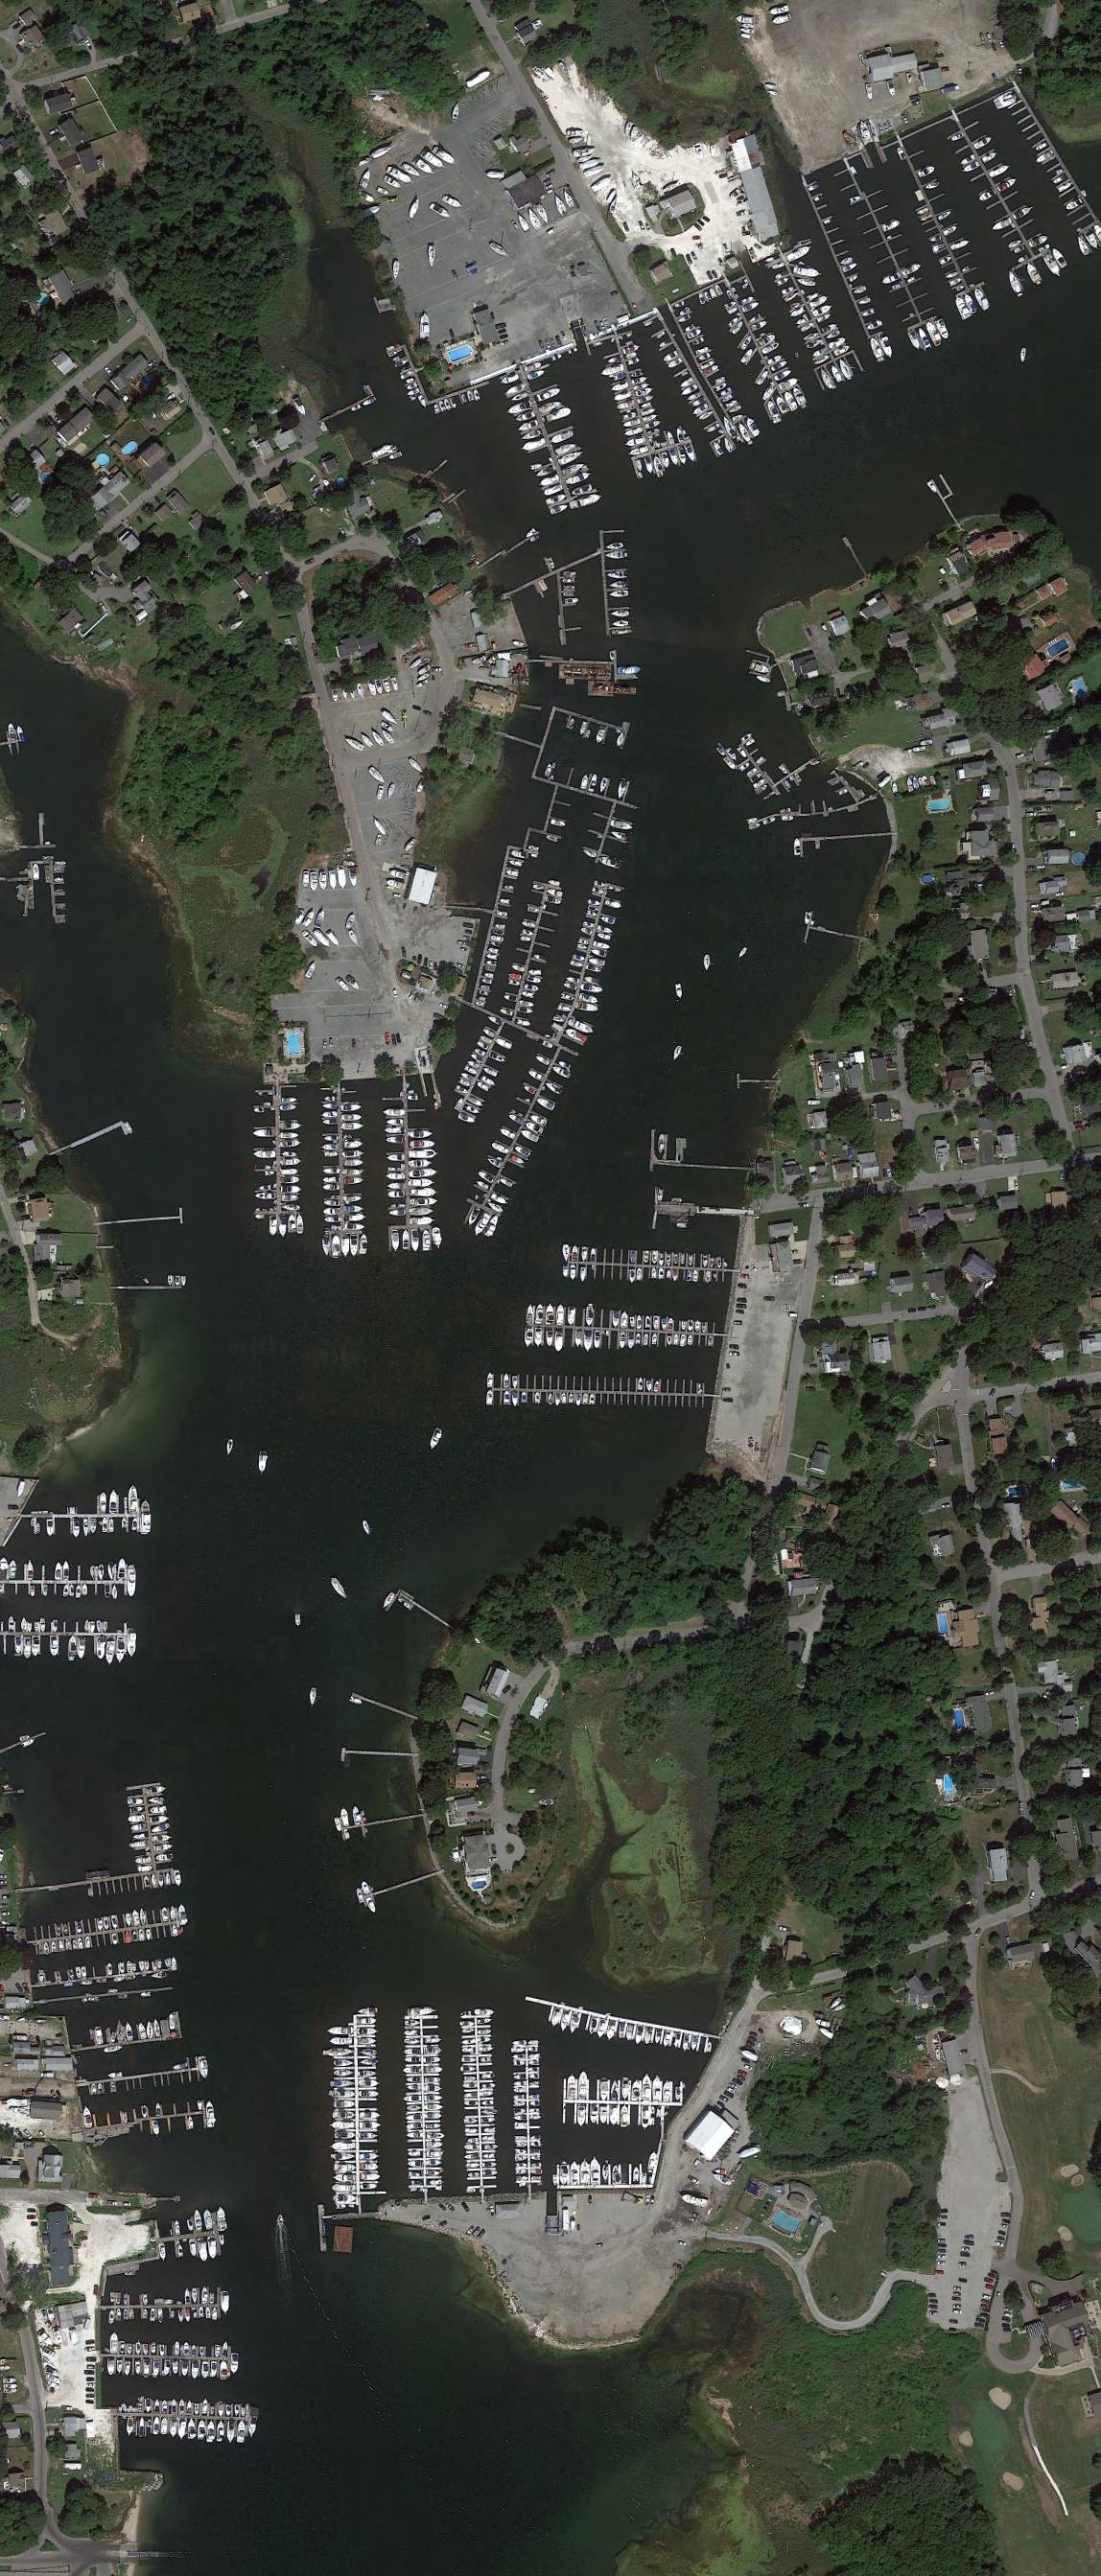harbor: (457, 1040, 578, 1240), (828, 148, 943, 332), (638, 297, 766, 462), (938, 105, 1057, 271), (493, 355, 606, 522), (884, 133, 989, 299), (705, 268, 813, 424), (764, 241, 869, 394), (996, 89, 1099, 235), (802, 169, 887, 342), (518, 1991, 720, 2062), (547, 879, 629, 1046), (524, 1299, 726, 1360), (325, 2003, 381, 2216), (498, 881, 569, 1032), (485, 1368, 716, 1414), (467, 843, 529, 1009), (26, 1902, 192, 1960), (383, 1094, 442, 1252), (598, 330, 669, 457), (440, 1014, 521, 1124), (565, 1242, 738, 1293), (320, 1079, 368, 1258), (120, 2392, 263, 2451), (401, 2006, 445, 2193), (251, 1086, 304, 1235), (30, 1955, 182, 2006), (458, 2008, 498, 2196), (564, 2073, 687, 2132), (20, 1488, 158, 1541), (748, 784, 882, 836), (18, 1863, 182, 1906), (2, 1553, 138, 1603), (2, 1612, 140, 1661), (102, 2338, 243, 2385), (537, 752, 649, 812), (77, 2052, 214, 2100), (89, 2098, 217, 2146), (357, 1851, 447, 1917), (721, 726, 790, 812), (550, 692, 643, 756), (623, 421, 707, 488), (67, 2009, 182, 2057), (651, 1125, 753, 1176), (652, 1184, 744, 1240), (43, 1114, 135, 1168), (102, 2288, 233, 2326), (125, 1779, 176, 1876), (513, 2039, 544, 2195), (575, 795, 639, 871), (385, 1585, 460, 1648), (532, 641, 644, 682), (339, 1792, 426, 1843), (156, 2208, 235, 2262), (600, 529, 633, 637), (795, 826, 896, 859), (527, 779, 580, 841), (805, 913, 873, 961), (557, 2159, 652, 2190), (927, 471, 971, 532), (552, 568, 587, 646), (348, 1689, 421, 1725), (97, 1209, 182, 1234), (340, 1740, 417, 1766), (110, 1278, 186, 1290)
ship: (549, 882, 626, 1043), (674, 302, 748, 422), (475, 848, 526, 1009), (513, 2042, 541, 2185), (629, 1252, 731, 1285), (569, 491, 605, 513), (383, 163, 414, 186), (419, 146, 447, 171), (463, 67, 493, 90), (695, 284, 725, 307), (431, 145, 457, 168), (991, 90, 1019, 112), (557, 449, 587, 468), (1006, 268, 1025, 297), (329, 1574, 350, 1600), (971, 288, 993, 314), (473, 1209, 493, 1237), (868, 337, 887, 365), (1043, 251, 1063, 279), (876, 332, 896, 360), (785, 243, 813, 263), (534, 386, 564, 404), (988, 159, 1012, 181), (532, 200, 552, 227), (588, 174, 615, 194), (564, 1025, 590, 1045), (953, 296, 973, 322), (506, 399, 534, 417), (549, 427, 577, 445), (560, 460, 588, 478), (565, 470, 593, 488), (925, 320, 943, 348), (411, 156, 435, 176), (370, 141, 394, 161), (427, 200, 452, 220), (370, 440, 394, 460), (357, 169, 375, 195), (537, 398, 564, 416), (526, 205, 544, 232), (1050, 245, 1068, 271), (570, 480, 597, 498), (546, 406, 572, 424), (1025, 261, 1043, 288), (792, 264, 823, 279), (680, 2193, 708, 2210), (312, 927, 332, 950), (744, 416, 764, 439), (807, 292, 830, 312), (901, 260, 924, 279), (427, 1426, 445, 1451), (552, 192, 570, 217), (782, 389, 800, 414), (996, 174, 1020, 192), (720, 416, 738, 440), (1081, 227, 1099, 251), (738, 2144, 762, 2162), (521, 437, 547, 453), (766, 399, 782, 425), (368, 764, 388, 785), (406, 756, 426, 777), (490, 240, 511, 260), (465, 1206, 483, 1229), (343, 736, 366, 754), (504, 381, 527, 399), (777, 375, 800, 393), (790, 386, 808, 409), (1029, 232, 1052, 250), (1012, 204, 1035, 222), (971, 133, 994, 151), (572, 1019, 595, 1037), (812, 301, 835, 319), (291, 394, 309, 417), (598, 363, 626, 378), (544, 491, 569, 508), (485, 1214, 501, 1239), (818, 366, 835, 391), (838, 356, 855, 381), (963, 292, 979, 317), (598, 854, 623, 871), (710, 2172, 735, 2188), (380, 706, 399, 726), (419, 312, 432, 342), (79, 2104, 94, 2131), (917, 325, 932, 352), (577, 2072, 590, 2101), (519, 1127, 541, 1145), (536, 1096, 557, 1114), (301, 928, 319, 950), (1035, 148, 1057, 166), (537, 473, 560, 490), (518, 417, 541, 434), (498, 371, 521, 388), (514, 210, 531, 233), (358, 204, 381, 220), (440, 194, 463, 210), (774, 394, 790, 417), (915, 163, 938, 179), (856, 118, 873, 141), (555, 440, 578, 457), (583, 163, 606, 179), (1075, 235, 1091, 258), (935, 317, 951, 340), (107, 1488, 120, 1516), (215, 2205, 228, 2233), (559, 2009, 574, 2034), (248, 2407, 260, 2438), (380, 1590, 398, 1610), (401, 161, 421, 179), (524, 1120, 546, 1137), (371, 817, 388, 838), (370, 728, 386, 749), (544, 1081, 565, 1097), (552, 1065, 574, 1081), (381, 174, 403, 191), (516, 409, 537, 425), (828, 363, 845, 384), (881, 217, 902, 233), (739, 2047, 761, 2063), (409, 1148, 439, 1160), (542, 483, 565, 498), (141, 1500, 151, 1534), (521, 429, 544, 444), (767, 3, 790, 18), (771, 12, 794, 26), (580, 156, 603, 171), (907, 329, 922, 352), (595, 2017, 610, 2040), (641, 2073, 652, 2103), (817, 2024, 835, 2042), (490, 1191, 509, 1207), (529, 1112, 549, 1129), (498, 1125, 518, 1142), (513, 1143, 532, 1160), (486, 1201, 506, 1217), (325, 928, 342, 948), (197, 2055, 210, 2080), (756, 332, 776, 348), (978, 187, 997, 204), (623, 435, 647, 449), (570, 145, 595, 158), (661, 348, 680, 365), (827, 335, 846, 352), (569, 2011, 582, 2036), (409, 1216, 437, 1227), (409, 1168, 437, 1180), (327, 2024, 355, 2036), (105, 1638, 117, 1666), (207, 2234, 219, 2262), (652, 2075, 664, 2103), (314, 908, 329, 930), (386, 877, 408, 892), (536, 465, 557, 480), (509, 389, 531, 404), (526, 368, 547, 383), (759, 340, 781, 355), (991, 217, 1012, 232), (738, 422, 753, 444), (610, 379, 631, 394), (881, 271, 902, 286), (950, 237, 971, 251), (128, 1483, 138, 1515), (408, 1129, 434, 1140), (449, 102, 462, 125), (408, 197, 421, 220), (197, 2236, 209, 2262), (639, 2104, 651, 2131), (605, 2019, 618, 2042), (491, 1140, 509, 1157), (485, 1155, 503, 1171), (360, 731, 376, 749), (380, 728, 396, 746), (335, 976, 352, 994), (1065, 197, 1083, 214), (409, 1188, 439, 1198), (495, 1037, 514, 1051), (532, 1053, 552, 1068), (526, 1068, 546, 1083), (549, 503, 569, 517), (302, 908, 317, 928), (115, 1636, 125, 1666), (769, 358, 789, 373), (774, 368, 794, 383), (761, 383, 776, 402), (961, 161, 981, 176), (958, 153, 978, 168), (690, 402, 710, 417), (680, 383, 700, 398), (621, 342, 641, 356), (616, 398, 636, 412), (832, 343, 851, 358), (593, 726, 608, 746), (670, 1043, 685, 1063), (334, 2162, 358, 2173), (204, 2208, 215, 2233), (652, 455, 664, 480), (616, 777, 628, 802), (388, 867, 409, 881), (684, 442, 697, 463), (667, 447, 680, 468), (613, 391, 634, 404), (633, 386, 654, 399), (797, 276, 818, 289), (411, 1196, 439, 1206), (337, 862, 347, 890), (409, 2008, 437, 2017), (205, 2100, 215, 2127), (128, 1564, 136, 1597), (478, 1170, 496, 1184), (345, 973, 360, 991), (467, 1094, 485, 1109), (766, 353, 784, 368), (805, 337, 823, 352), (822, 320, 840, 335), (789, 306, 807, 320), (330, 1235, 342, 1258), (334, 2193, 357, 2205), (215, 2420, 227, 2443), (186, 2418, 197, 2441), (123, 2019, 135, 2042), (177, 1902, 189, 1925), (618, 664, 641, 675), (611, 820, 634, 831), (559, 2162, 570, 2185), (409, 1207, 435, 1217), (432, 1226, 442, 1252), (355, 680, 368, 700), (347, 928, 360, 948), (330, 2121, 357, 2131), (330, 2080, 357, 2090), (332, 2183, 358, 2193), (457, 1112, 477, 1125), (294, 907, 307, 927), (258, 1449, 268, 1475), (523, 361, 542, 375), (749, 319, 769, 332), (741, 301, 761, 314), (979, 151, 999, 164), (643, 455, 656, 475), (736, 13, 756, 26), (629, 375, 649, 388), (590, 2159, 600, 2185), (587, 2016, 600, 2036), (567, 2075, 577, 2101), (324, 2049, 355, 2057), (128, 1628, 136, 1659), (7, 721, 18, 743), (125, 2417, 136, 2438), (102, 2044, 123, 2055), (623, 427, 644, 439), (629, 445, 651, 457), (675, 444, 687, 465), (578, 1002, 600, 1014), (578, 994, 600, 1005), (588, 772, 600, 793), (656, 1132, 667, 1153), (550, 2006, 562, 2027), (403, 836, 417, 853), (414, 777, 429, 793), (358, 2121, 383, 2131), (332, 2100, 357, 2109), (526, 1301, 536, 1326), (355, 2006, 380, 2016), (251, 1150, 276, 1160), (237, 2420, 246, 2445), (205, 2420, 215, 2445), (427, 243, 437, 268), (77, 1636, 87, 1661), (67, 1636, 77, 1661), (49, 1635, 59, 1659), (110, 2331, 120, 2356), (222, 2290, 232, 2315), (192, 2208, 202, 2233), (756, 370, 771, 386), (739, 348, 754, 365), (679, 376, 695, 391), (667, 356, 684, 371), (580, 984, 605, 994), (725, 746, 739, 762), (800, 320, 817, 335), (828, 1994, 843, 2011), (580, 2160, 590, 2185), (508, 1153, 526, 1166), (480, 1074, 498, 1088), (365, 1896, 378, 1914), (304, 961, 317, 979), (638, 393, 656, 406), (800, 330, 818, 343), (812, 353, 830, 366), (817, 312, 835, 325), (825, 329, 843, 342), (841, 261, 859, 274), (409, 1180, 437, 1188), (386, 1171, 406, 1183), (342, 1235, 352, 1258), (342, 1122, 365, 1132), (348, 864, 358, 887), (329, 867, 339, 890), (334, 2131, 357, 2141), (334, 2067, 353, 2078), (330, 2036, 353, 2045), (335, 2173, 358, 2183), (567, 1304, 577, 1327), (352, 1805, 363, 1825), (253, 1129, 276, 1138), (279, 1122, 302, 1132), (117, 1557, 127, 1580), (268, 1214, 278, 1237), (151, 2417, 163, 2436), (485, 169, 504, 181), (133, 1855, 153, 1866), (151, 1843, 174, 1853), (151, 1822, 171, 1833), (31, 1635, 41, 1658), (23, 1636, 33, 1659), (603, 899, 623, 910), (585, 1304, 595, 1327), (583, 1329, 593, 1352), (610, 830, 629, 841), (620, 2104, 629, 2127), (570, 2162, 580, 2185), (577, 2103, 587, 2126), (721, 756, 736, 770), (508, 1114, 524, 1127), (498, 1176, 514, 1189), (475, 1178, 491, 1191), (330, 2154, 357, 2162), (330, 2142, 357, 2150), (330, 2090, 357, 2098), (490, 1051, 506, 1065), (475, 1081, 491, 1094), (232, 2349, 240, 2376), (741, 335, 754, 352), (731, 320, 744, 337), (712, 440, 725, 457), (721, 437, 735, 453), (1052, 172, 1068, 186), (943, 225, 960, 238), (937, 209, 953, 222), (896, 146, 909, 163), (950, 131, 966, 145), (605, 552, 631, 560), (698, 409, 715, 422), (687, 391, 703, 404), (932, 241, 948, 255), (948, 276, 965, 289), (582, 846, 598, 859), (362, 394, 378, 407), (322, 1207, 343, 1217), (386, 1181, 408, 1191), (345, 1212, 366, 1222), (422, 1231, 432, 1252), (383, 1107, 404, 1117), (309, 1686, 319, 1707), (279, 1138, 301, 1148), (256, 1191, 278, 1201), (72, 1518, 82, 1539), (225, 1436, 235, 1457), (296, 1214, 306, 1235), (177, 2418, 187, 2440), (169, 2417, 179, 2438), (136, 2417, 146, 2438), (158, 2241, 168, 2262), (128, 1840, 150, 1850), (151, 1833, 173, 1843), (150, 1814, 171, 1824), (13, 1635, 23, 1656), (608, 570, 629, 580), (608, 590, 629, 600), (611, 1308, 621, 1329), (634, 2024, 644, 2045), (386, 782, 398, 800), (368, 678, 380, 697), (381, 675, 393, 693), (547, 887, 565, 899), (345, 913, 357, 931), (463, 1104, 481, 1115), (15, 724, 26, 743), (156, 1851, 174, 1863), (130, 1822, 148, 1833), (136, 2022, 148, 2040), (171, 2060, 189, 2072), (644, 419, 662, 430), (623, 417, 641, 429), (641, 412, 659, 424), (886, 79, 897, 97), (639, 406, 657, 417), (588, 956, 606, 968), (583, 974, 601, 986), (597, 925, 615, 936), (598, 775, 610, 793), (409, 1160, 434, 1168), (409, 1140, 434, 1148), (350, 1234, 358, 1258), (358, 2111, 383, 2119), (332, 2111, 357, 2119), (546, 1301, 554, 1326), (555, 1327, 564, 1352), (97, 1636, 105, 1661), (621, 2077, 629, 2101), (380, 720, 394, 733), (549, 818, 569, 828), (509, 849, 529, 859), (523, 1084, 537, 1097), (358, 2068, 378, 2078), (360, 2057, 380, 2067), (422, 2045, 442, 2055), (488, 1014, 503, 1027), (480, 1033, 495, 1046), (355, 1886, 365, 1906), (340, 1809, 350, 1828), (283, 1184, 302, 1194), (309, 871, 319, 890), (141, 2359, 151, 2379), (146, 1796, 166, 1805), (148, 1805, 168, 1815), (146, 1784, 166, 1794), (125, 1797, 145, 1807), (153, 2118, 163, 2137), (94, 2026, 104, 2045), (145, 2021, 154, 2040), (1057, 181, 1071, 194), (1034, 140, 1048, 153), (592, 940, 611, 950), (739, 731, 754, 744), (925, 480, 938, 495), (938, 255, 953, 268), (611, 2165, 621, 2185), (662, 2029, 672, 2049), (682, 2032, 692, 2052), (411, 1229, 419, 1252), (342, 1150, 365, 1158), (358, 2152, 381, 2160), (360, 2173, 383, 2182), (357, 2027, 380, 2036), (557, 1303, 565, 1326), (536, 1303, 544, 1326), (468, 1053, 485, 1065), (483, 1066, 500, 1078), (360, 1879, 371, 1896), (279, 1158, 302, 1166), (227, 2420, 235, 2443), (925, 179, 942, 191), (592, 948, 608, 959), (564, 981, 580, 992), (509, 963, 526, 974), (812, 347, 828, 358), (840, 255, 856, 266), (388, 450, 404, 462), (498, 1007, 514, 1019), (600, 2078, 608, 2101), (324, 1175, 342, 1184), (376, 784, 386, 802), (320, 1101, 339, 1111), (406, 2113, 424, 2123), (181, 2359, 191, 2377), (128, 1814, 146, 1824), (128, 1805, 146, 1815), (666, 429, 675, 447), (864, 82, 874, 100), (605, 540, 623, 550), (621, 411, 639, 421), (792, 838, 802, 856), (173, 2218, 182, 2236), (186, 2114, 196, 2132), (616, 731, 626, 749), (813, 2017, 832, 2027), (514, 1019, 532, 1028), (624, 2024, 634, 2042), (342, 1196, 363, 1204), (383, 1125, 404, 1134), (322, 1235, 330, 1257), (403, 1229, 411, 1250), (391, 1231, 399, 1252), (360, 1234, 368, 1255), (358, 2090, 380, 2098), (358, 2132, 380, 2141), (422, 2113, 444, 2121), (524, 1327, 532, 1349), (99, 1492, 107, 1513), (279, 1216, 288, 1237), (197, 2420, 205, 2441), (191, 2359, 199, 2381), (220, 2361, 228, 2382), (26, 1559, 35, 1580), (153, 2017, 161, 2039), (107, 2356, 115, 2377), (608, 580, 629, 588), (610, 2104, 618, 2126), (590, 2103, 598, 2124), (664, 2081, 672, 2103), (633, 2080, 641, 2101), (409, 657, 422, 670), (416, 672, 431, 683), (417, 664, 432, 675), (559, 1060, 574, 1071), (481, 1028, 496, 1040), (475, 1040, 490, 1051), (463, 1065, 478, 1076), (460, 1071, 475, 1083), (457, 1076, 472, 1088), (721, 299, 736, 310), (707, 422, 721, 434), (1007, 238, 1022, 250), (692, 398, 707, 409), (597, 931, 611, 943), (744, 767, 759, 779), (861, 307, 876, 319), (915, 205, 930, 217), (919, 214, 933, 225), (853, 284, 868, 296), (386, 1191, 406, 1199), (386, 1153, 406, 1161), (343, 1140, 363, 1148), (342, 1114, 362, 1122), (342, 1104, 362, 1112), (546, 897, 562, 907), (360, 2162, 380, 2170), (334, 2059, 353, 2067), (358, 2047, 378, 2055), (358, 2037, 378, 2045), (426, 2131, 445, 2139), (406, 2131, 426, 2139), (406, 2103, 422, 2113), (424, 2093, 444, 2101), (424, 2067, 444, 2075), (403, 2067, 422, 2075), (404, 2047, 421, 2057), (534, 1327, 542, 1347), (362, 1518, 371, 1534), (281, 1176, 301, 1184), (283, 1203, 302, 1211), (62, 1561, 71, 1580), (54, 1562, 62, 1582), (393, 260, 401, 279), (202, 2361, 210, 2381), (189, 2238, 197, 2257), (10, 1559, 18, 1579), (136, 1863, 153, 1873), (107, 2070, 123, 2080), (174, 1870, 182, 1889), (426, 2150, 445, 2159), (662, 450, 670, 470), (587, 964, 603, 974), (532, 953, 549, 963), (600, 915, 616, 925), (578, 720, 588, 736), (169, 2400, 179, 2417), (123, 2361, 133, 2377), (133, 1909, 141, 1929), (618, 1329, 626, 1349), (544, 762, 554, 779), (675, 982, 685, 999), (601, 2162, 610, 2182), (526, 974, 542, 984), (524, 982, 541, 992), (503, 994, 519, 1004), (600, 2104, 608, 2124), (345, 1224, 368, 1231), (342, 1168, 365, 1175), (417, 657, 431, 669), (320, 869, 327, 892), (358, 2080, 381, 2086), (473, 1046, 486, 1058), (777, 764, 789, 777), (726, 315, 738, 329), (726, 306, 739, 317), (738, 761, 749, 774), (749, 772, 762, 784), (753, 779, 766, 790), (715, 743, 726, 756), (953, 284, 966, 296), (350, 402, 363, 414), (324, 1216, 342, 1224), (386, 1117, 404, 1125), (324, 1166, 342, 1175), (375, 678, 383, 697), (391, 675, 399, 693), (322, 1143, 340, 1152), (322, 1119, 340, 1127), (426, 2141, 444, 2149), (404, 2095, 422, 2103), (424, 2037, 442, 2045), (260, 1183, 278, 1191), (281, 1168, 299, 1176), (279, 1104, 297, 1112), (283, 1194, 301, 1203), (302, 869, 311, 887), (33, 864, 41, 882), (131, 1832, 150, 1840), (611, 609, 629, 618), (475, 2017, 493, 2026), (463, 2152, 481, 2160), (161, 1906, 169, 1924), (104, 1914, 112, 1932), (621, 1311, 629, 1329), (593, 1331, 601, 1349), (582, 772, 590, 790), (703, 953, 712, 971), (562, 1244, 570, 1262), (654, 2027, 662, 2045), (690, 2034, 698, 2052), (738, 945, 748, 959), (467, 1060, 481, 1070), (454, 1097, 463, 1112), (762, 817, 777, 826), (858, 296, 873, 306), (417, 394, 427, 409), (483, 2160, 498, 2170), (570, 1247, 580, 1262), (521, 989, 536, 999), (385, 1137, 406, 1143), (343, 1160, 365, 1166), (422, 2103, 444, 2109), (422, 2085, 444, 2091), (473, 2009, 495, 2016), (324, 1199, 340, 1207), (389, 1209, 406, 1217), (322, 1111, 339, 1119), (404, 2019, 421, 2027), (426, 2123, 442, 2131), (406, 2123, 422, 2131), (406, 2077, 422, 2085), (486, 1390, 495, 1406), (486, 1372, 495, 1388), (90, 1518, 99, 1534), (143, 1875, 151, 1891), (168, 2014, 176, 2031), (675, 427, 684, 444), (613, 619, 629, 628), (145, 2397, 153, 2413), (182, 2341, 191, 2357), (460, 2047, 477, 2055), (480, 2072, 496, 2080), (462, 2081, 478, 2090), (480, 2081, 496, 2090), (480, 2116, 496, 2124), (151, 1971, 168, 1980), (125, 1912, 133, 1929), (652, 1314, 661, 1331), (633, 2167, 641, 2183), (508, 973, 524, 981), (616, 2022, 624, 2039), (345, 1206, 365, 1212), (345, 1178, 365, 1184), (513, 639, 526, 649), (360, 2183, 380, 2190), (424, 2077, 444, 2083), (422, 2057, 442, 2063), (358, 2017, 378, 2024), (547, 1327, 554, 1347), (108, 1561, 115, 1580), (289, 1214, 296, 1234), (582, 927, 595, 936), (868, 320, 881, 330), (930, 235, 943, 245), (43, 1942, 53, 1955), (634, 1332, 644, 1345), (611, 2081, 618, 2101), (509, 859, 524, 867), (547, 879, 562, 887), (404, 2029, 419, 2037), (131, 1518, 140, 1533), (173, 2359, 181, 2374), (408, 2150, 422, 2159), (565, 596, 580, 605), (560, 994, 575, 1002), (557, 1005, 572, 1014), (521, 920, 536, 928), (521, 928, 536, 936), (587, 899, 601, 907), (833, 2004, 848, 2012), (945, 271, 960, 279), (465, 2127, 480, 2136), (408, 2170, 422, 2178), (176, 2244, 184, 2259), (154, 2101, 163, 2116), (171, 1957, 179, 1971), (667, 1318, 675, 1332), (636, 1316, 644, 1331), (687, 1318, 695, 1332), (546, 835, 560, 843), (324, 1184, 342, 1191), (404, 2057, 422, 2063), (281, 1132, 299, 1138), (90, 1564, 97, 1582), (48, 1518, 54, 1536), (161, 2417, 168, 2435), (154, 2359, 161, 2377), (202, 2399, 209, 2417), (179, 2397, 186, 2415), (117, 2356, 123, 2374), (210, 2361, 217, 2379), (217, 2400, 223, 2418), (462, 2101, 480, 2108), (202, 2287, 209, 2305), (426, 2170, 444, 2177), (628, 1331, 634, 1349), (575, 1329, 582, 1347), (322, 1150, 339, 1157), (404, 2039, 421, 2045), (455, 1086, 468, 1094), (335, 1815, 342, 1832), (534, 1392, 542, 1405), (513, 1373, 519, 1390), (283, 1152, 299, 1158), (102, 1518, 108, 1534), (99, 1564, 105, 1580), (112, 1584, 118, 1600), (151, 1873, 158, 1889), (158, 1873, 164, 1889), (426, 2160, 442, 2167), (408, 2160, 424, 2167), (552, 1017, 565, 1025), (527, 907, 541, 915), (583, 920, 597, 928), (651, 1249, 657, 1265), (636, 1268, 644, 1281), (1020, 347, 1027, 363), (194, 2400, 200, 2417), (186, 2400, 192, 2417), (135, 2359, 141, 2376), (135, 2343, 143, 2356), (478, 2037, 491, 2045), (478, 2047, 495, 2054), (460, 2057, 477, 2063), (481, 2109, 498, 2116), (462, 2118, 478, 2124), (463, 2144, 480, 2150), (483, 2152, 496, 2160), (467, 2162, 480, 2170), (481, 2170, 498, 2177), (140, 1909, 146, 1925), (118, 1960, 125, 1976), (97, 1916, 104, 1932), (112, 1914, 118, 1930), (679, 1334, 687, 1347), (643, 1334, 651, 1347), (638, 1375, 644, 1392), (582, 1247, 588, 1263), (580, 1265, 587, 1281), (570, 1263, 577, 1280), (508, 979, 521, 987), (519, 1000, 536, 1007), (518, 1007, 534, 1014), (644, 2027, 651, 2044), (324, 1135, 339, 1142), (408, 2085, 422, 2091), (503, 1392, 509, 1406), (503, 1373, 509, 1388), (84, 1518, 89, 1538), (108, 1518, 115, 1533), (164, 1873, 171, 1888), (572, 954, 587, 961), (565, 976, 580, 982), (657, 1186, 664, 1201), (716, 1255, 723, 1270), (702, 1253, 708, 1268), (680, 1252, 687, 1267), (659, 1252, 666, 1267), (629, 1250, 636, 1265), (629, 1268, 636, 1283), (804, 910, 810, 925), (161, 2400, 168, 2415), (154, 2400, 161, 2415), (186, 2308, 192, 2323), (174, 2341, 181, 2356), (118, 2339, 125, 2354), (108, 2310, 115, 2325), (158, 2308, 164, 2323), (225, 2403, 232, 2418), (460, 2021, 475, 2027), (462, 2039, 477, 2045), (462, 2067, 477, 2073), (480, 2091, 495, 2098), (463, 2091, 478, 2098), (179, 2308, 186, 2323), (77, 1937, 84, 1952), (483, 2144, 498, 2150), (184, 2290, 191, 2305), (187, 2218, 194, 2233), (122, 2109, 128, 2124), (141, 2103, 148, 2118), (107, 1962, 113, 1976), (77, 1921, 84, 1935), (661, 1318, 667, 1332), (646, 1378, 652, 1393), (575, 1392, 582, 1406), (417, 680, 429, 688), (560, 1393, 569, 1405), (587, 905, 598, 913), (84, 1937, 92, 1948), (64, 1940, 72, 1952), (468, 2170, 480, 2178), (687, 1336, 695, 1347), (513, 1390, 518, 1408), (164, 2359, 169, 2377), (223, 2341, 228, 2359), (192, 2287, 197, 2305), (294, 1613, 301, 1626), (554, 1393, 560, 1406), (521, 1392, 527, 1405), (76, 1585, 82, 1598), (82, 1584, 89, 1597), (64, 1585, 71, 1598), (570, 961, 583, 968), (748, 823, 761, 830), (672, 1268, 679, 1281), (199, 2344, 205, 2357), (191, 2344, 197, 2357), (159, 2343, 166, 2356), (462, 2027, 475, 2034), (478, 2029, 491, 2036), (480, 2057, 493, 2063), (463, 2075, 477, 2081), (481, 2101, 495, 2108), (212, 2308, 219, 2321), (483, 2136, 496, 2142), (131, 1930, 138, 1943), (125, 1930, 131, 1943), (112, 1934, 118, 1947), (72, 1939, 79, 1952), (59, 1940, 66, 1953), (431, 2178, 444, 2185), (127, 1960, 133, 1973), (674, 1334, 680, 1347), (644, 1316, 651, 1329), (628, 1316, 634, 1329), (654, 1380, 661, 1393), (680, 1319, 687, 1332), (562, 1265, 569, 1278), (529, 968, 542, 974), (334, 685, 339, 701), (644, 1249, 649, 1265), (235, 2402, 240, 2418), (171, 1906, 176, 1922), (675, 2032, 680, 2049), (675, 2085, 680, 2101), (569, 1393, 575, 1405), (122, 1518, 128, 1529), (578, 940, 590, 946), (532, 884, 544, 890), (587, 910, 598, 917), (692, 1270, 698, 1281), (666, 1270, 672, 1281), (651, 1267, 657, 1278), (485, 2127, 496, 2134), (138, 1930, 145, 1942), (51, 1942, 58, 1953), (465, 2188, 477, 2195), (173, 1925, 179, 1937), (197, 2101, 204, 2113), (151, 1960, 158, 1971), (651, 1334, 657, 1345), (588, 1393, 595, 1405), (582, 1393, 588, 1405), (707, 2042, 713, 2054), (674, 1252, 679, 1267), (667, 1252, 672, 1267), (151, 2341, 156, 2356), (687, 1270, 692, 1283), (710, 1255, 715, 1268), (689, 1253, 693, 1267), (782, 817, 795, 821), (519, 936, 532, 941), (215, 2344, 220, 2357), (143, 2343, 148, 2356), (146, 1929, 151, 1942), (82, 1965, 87, 1978), (695, 1319, 700, 1332), (549, 1393, 554, 1405), (71, 1585, 76, 1597), (577, 945, 588, 950), (128, 2343, 133, 2354), (468, 2137, 480, 2142), (145, 1960, 150, 1971), (140, 1960, 145, 1971), (667, 1334, 672, 1345), (708, 1336, 713, 1347), (702, 1321, 707, 1332), (661, 1267, 664, 1280), (707, 1272, 710, 1283)
